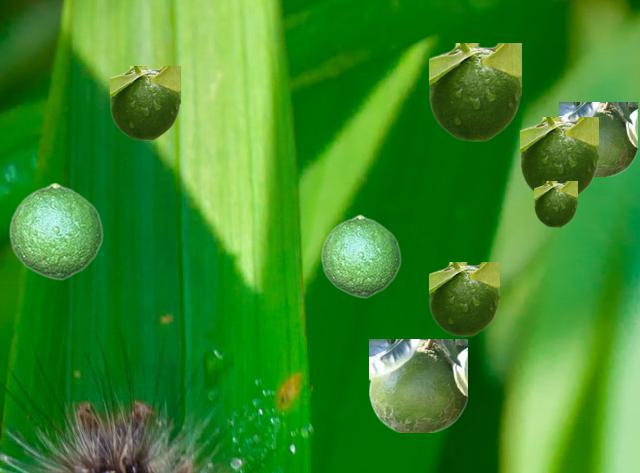dalandan: (8, 182, 102, 279), (369, 339, 466, 431), (429, 43, 520, 140), (320, 214, 400, 297), (520, 117, 597, 196), (559, 102, 636, 175), (429, 262, 498, 335), (110, 66, 179, 139), (534, 181, 576, 226)
